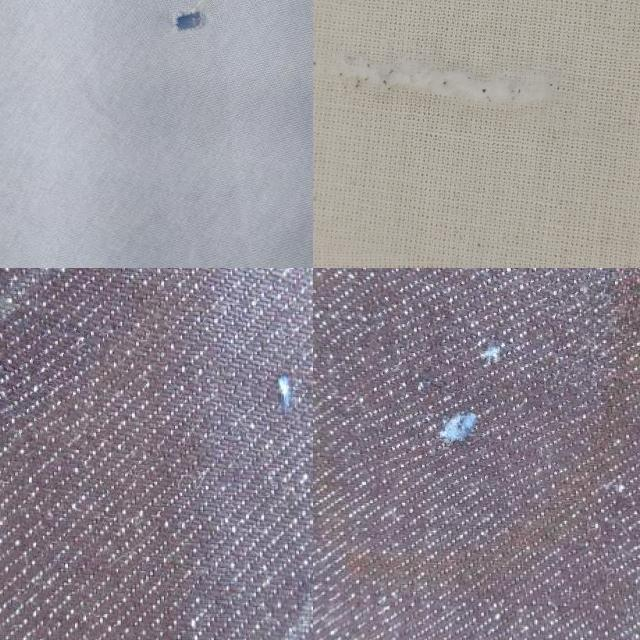Thread_other: (313, 0, 640, 268), (360, 268, 592, 492), (0, 294, 97, 444), (198, 353, 313, 454)
seam: (150, 0, 241, 64)
